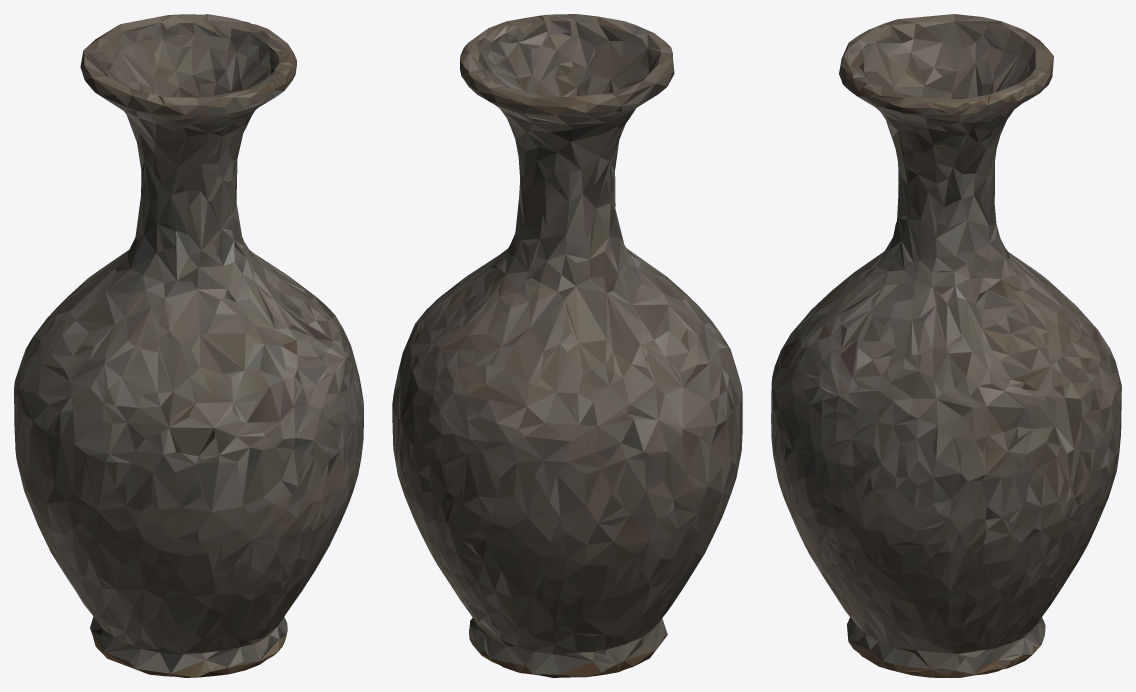
The model's file is vase-lo.glb.
3 renders of one model, left to right at view 1: azimuth 30°, elevation 25°; view 2: azimuth 150°, elevation 25°; view 3: azimuth 270°, elevation 25°, orthographic.
Visible parts, largest first — view 1: geometry_0; view 2: geometry_0; view 3: geometry_0.
Part boxes in pixels (box(x1,y1,x2,y2)): geometry_0: box(14, 14, 363, 677); geometry_0: box(392, 14, 742, 677); geometry_0: box(771, 14, 1121, 677).
Size of the model in its own units: 0.5363 by 0.9813 by 0.536.
Materials: 1 (1 with a texture image).
